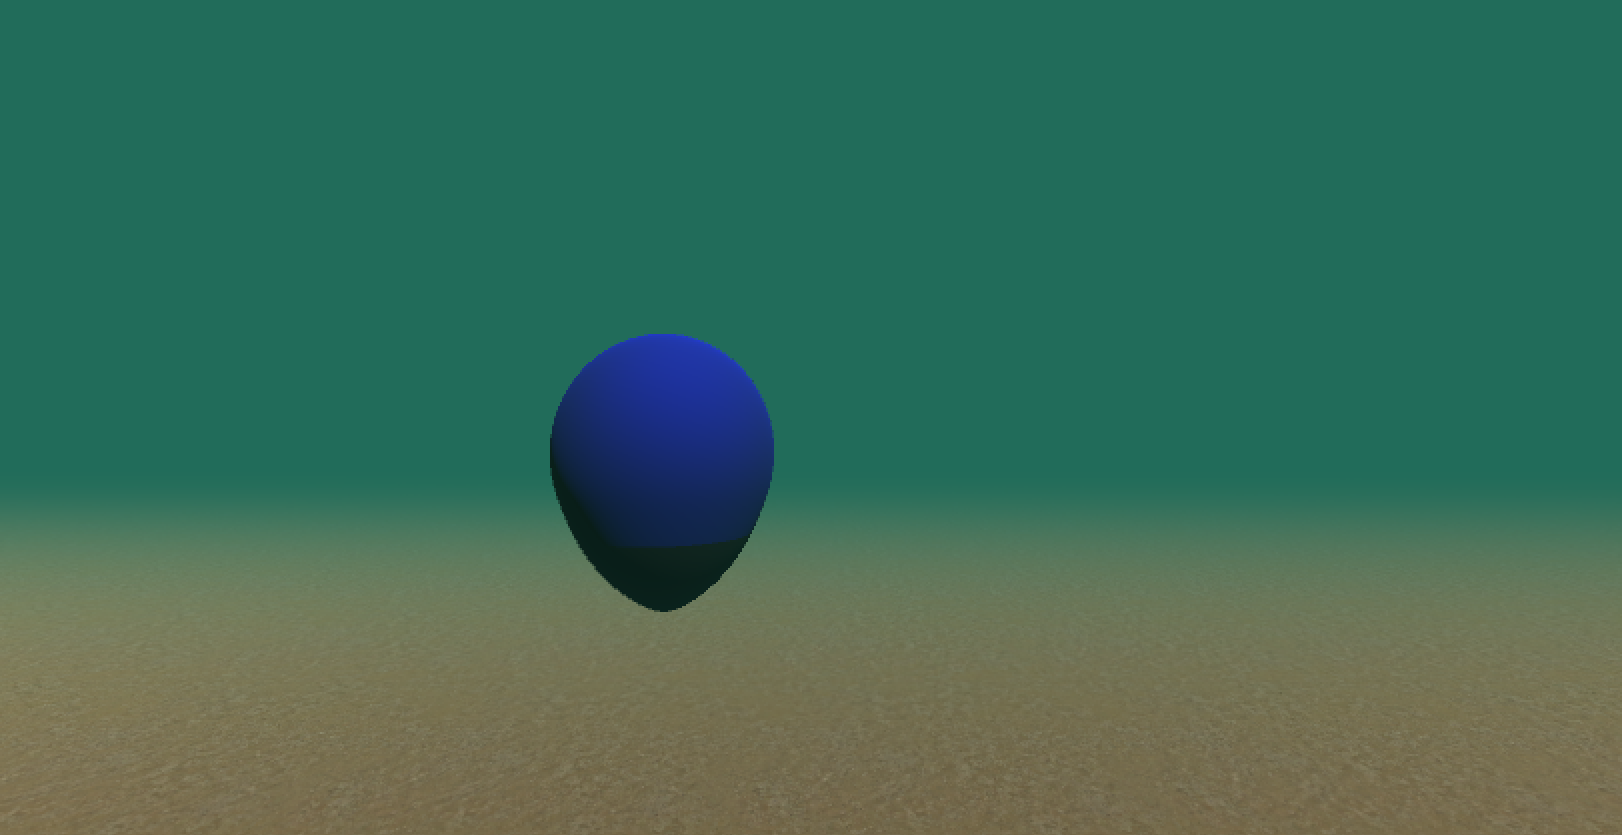blue buoy: (546, 329, 781, 616)
